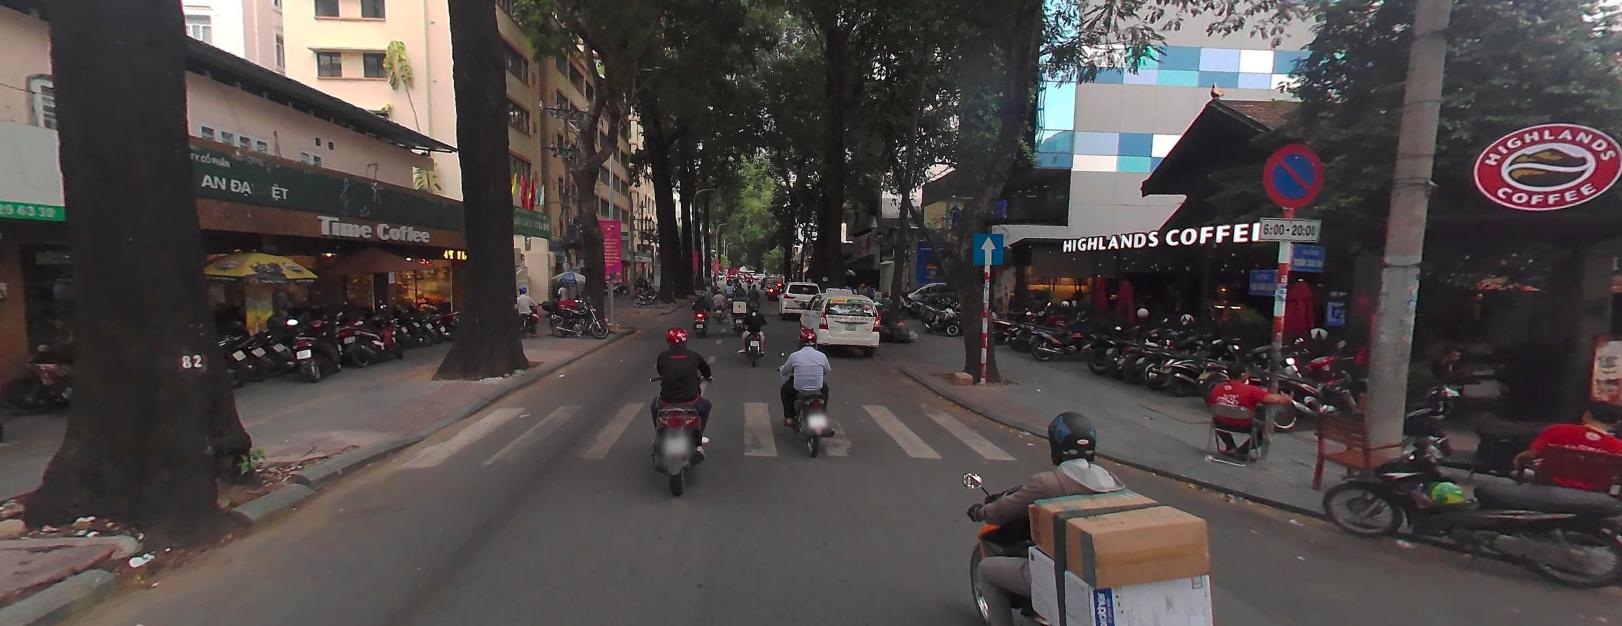Cam dung va do: (1263, 142, 1323, 209)
